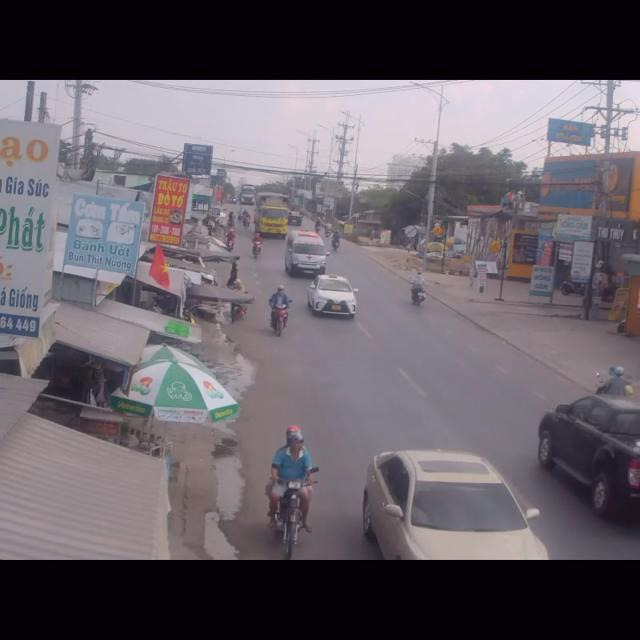car: (360, 449, 551, 564), (538, 388, 638, 514), (308, 270, 358, 322), (285, 230, 330, 278)
motorbike: (266, 426, 317, 560), (270, 286, 290, 340), (409, 266, 426, 308)
